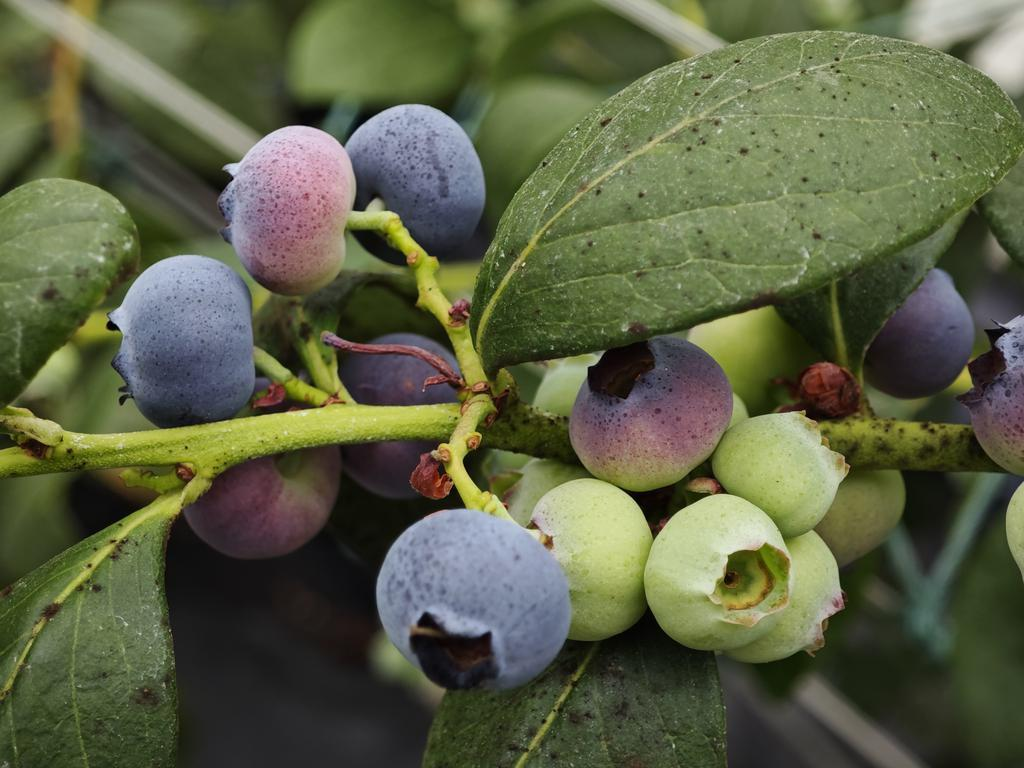RipeBlueBerry: (372, 503, 576, 697), (105, 249, 260, 427), (349, 102, 490, 267)
Semi-RipeBlueBerry: (565, 332, 736, 495), (215, 120, 358, 299)
UnripeBlueBerry: (643, 488, 795, 654)
